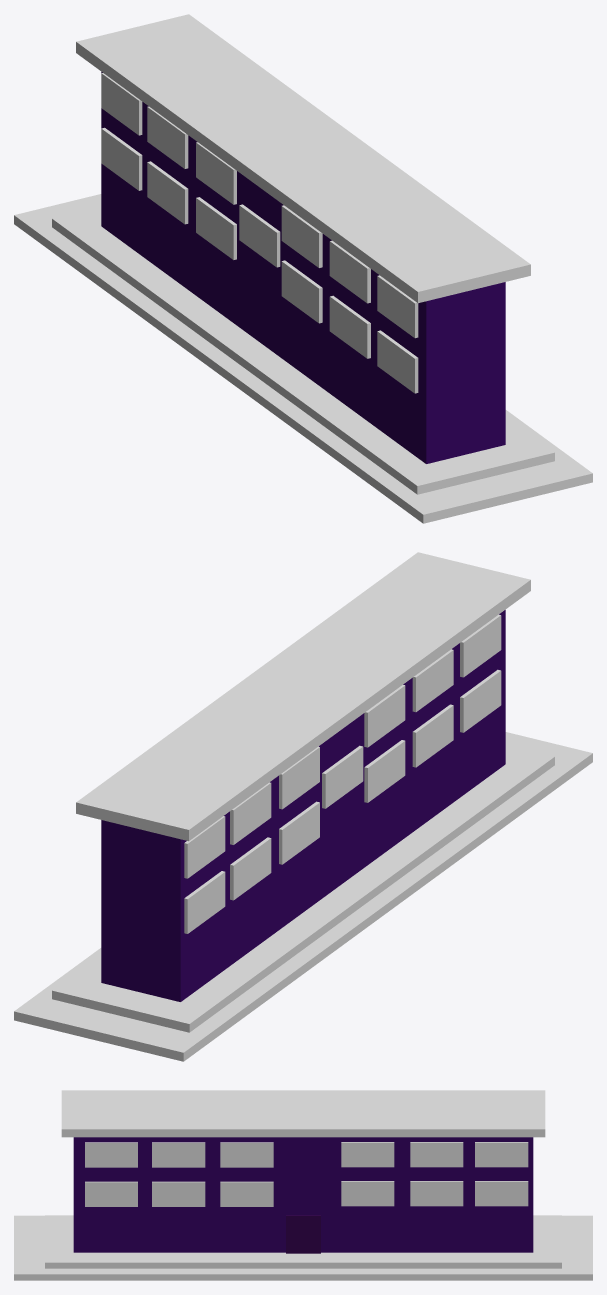
Rendered from дом 7.fbx.
3 renders of one model, top to bottom at view 1: azimuth 30°, elevation 25°; view 2: azimuth 150°, elevation 25°; view 3: azimuth 270°, elevation 25°, orthographic. The views are drawn at different scales.
Visible parts, largest first — view 1: Cube, Cube.003, Cube.001, Cube.002, Cube.028, Cube.016, Cube.020, Cube.024, Cube.026, Cube.018, Cube.022, Cube.019 (+5 smaller); view 2: Cube, Cube.003, Cube.001, Cube.002, Cube.024, Cube.018, Cube.016, Cube.020, Cube.026, Cube.028, Cube.022, Cube.019 (+5 smaller); view 3: Cube, Cube.003, Cube.001, Cube.002, Cube.004, Cube.005, Cube.007, Cube.006, Cube.010, Cube.011, Cube.012, Cube.013 (+5 smaller).
Part boxes in pixels (x1,y1,x2,y2): Cube: (101,72,505,463); Cube.003: (76,14,530,303); Cube.001: (52,207,554,494); Cube.002: (14,194,592,523); Cube.028: (239,204,280,267); Cube.016: (281,260,322,323); Cube.020: (377,330,418,393); Cube.024: (147,161,188,224); Cube.026: (101,127,142,190); Cube.018: (329,295,370,358); Cube.022: (196,197,236,259); Cube.019: (329,240,370,303); Cube: (101,610,505,1001); Cube.003: (76,552,530,841); Cube.001: (52,745,554,1032); Cube.002: (14,732,592,1061); Cube.024: (230,837,271,900); Cube.018: (412,704,453,767); Cube.016: (364,740,405,802); Cube.020: (460,669,501,732); Cube.026: (184,871,225,933); Cube.028: (322,745,363,808); Cube.022: (279,801,319,864); Cube.019: (412,649,453,712); Cube: (73,1137,533,1252); Cube.003: (61,1090,545,1137); Cube.001: (45,1215,561,1268); Cube.002: (14,1215,592,1280); Cube.004: (220,1181,273,1206); Cube.005: (220,1142,273,1167); Cube.007: (152,1142,205,1167); Cube.006: (152,1181,205,1206); Cube.010: (341,1181,394,1206); Cube.011: (341,1142,394,1167); Cube.012: (410,1181,463,1206); Cube.013: (410,1142,463,1167).
Bounding box in the file's own units: 3947 × 4450 × 16496.
